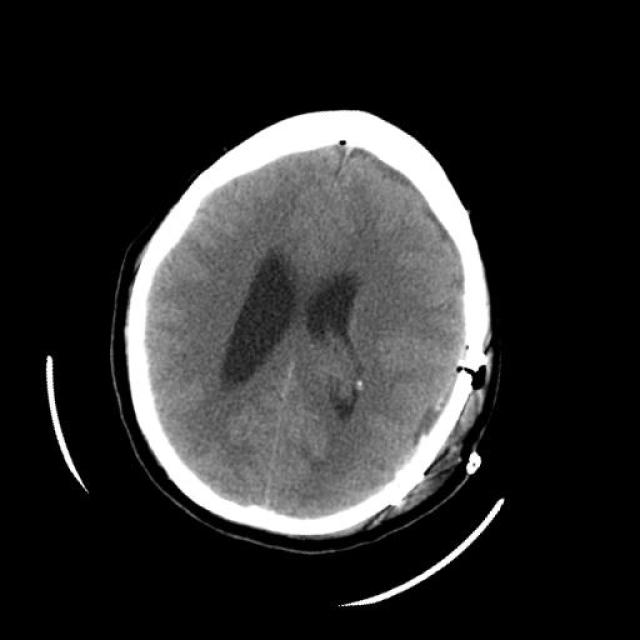Subdural: (358, 279, 497, 501)
